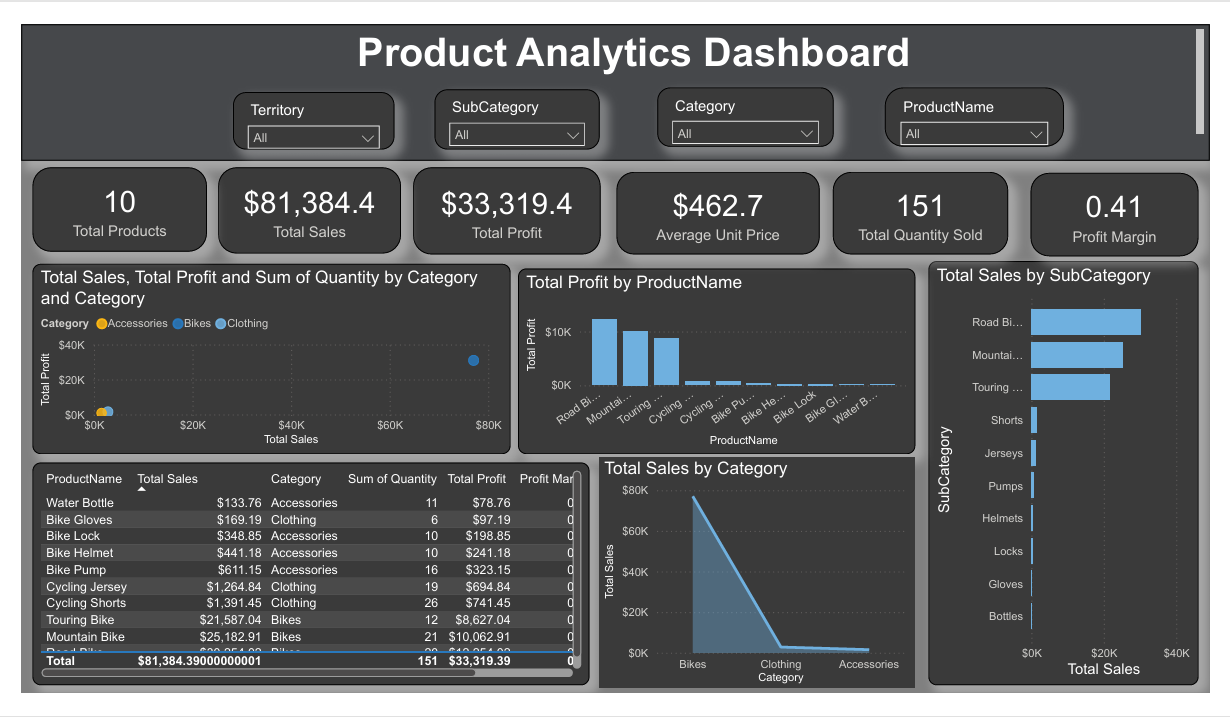

The dashboard page shown, as its layout file describes it:
{"tool":"powerbi","page":{"name":"Page 5","canvas":[1280,720],"ordinal":3},"visuals":[{"type":"textbox","box":[0,0,1280,146.7],"z":0},{"type":"card","fields":{"Values":["Sales Data.Total Profit"]},"box":[422.5,154.4,201.4,93.9],"z":1000},{"type":"slicer","fields":{"Values":["Sales Data.Territory"]},"box":[228.3,73.3,173.3,61.7],"z":2000},{"type":"slicer","fields":{"Values":["Sales Data.SubCategory"]},"box":[445,70,178.3,65],"z":3000},{"type":"slicer","fields":{"Values":["Sales Data.Category"]},"box":[685,68.3,190,63.3],"z":4000},{"type":"card","fields":{"Values":["Sales Data.Total Sales"]},"box":[212,154.4,196.8,92.4],"z":5000},{"type":"clusteredBarChart","fields":{"Y":["Sales Data.Total Sales"],"Category":["Sales Data.SubCategory"]},"box":[976.7,255,291.7,456.7],"z":6000},{"type":"scatterChart","fields":{"Category":["Sales Data.Category"],"X":["Sales Data.Total Sales"],"Y":["Sales Data.Total Profit"],"Series":["Sales Data.Category"],"Size":["Sum(Sales Data.Quantity)"]},"box":[11.7,258.3,515,205],"z":7000},{"type":"columnChart","fields":{"Category":["Sales Data.ProductName"],"Y":["Sales Data.Total Profit"]},"box":[535,263.3,428.3,200],"z":8000},{"type":"slicer","fields":{"Values":["Sales Data.ProductName"]},"box":[930,68.3,193.3,63.3],"z":9000},{"type":"card","fields":{"Values":["Sales Data.Total Products"]},"box":[12.1,154.4,187.8,90.9],"z":10000},{"type":"card","fields":{"Values":["Sales Data.Average Unit Price"]},"box":[640.5,159,219.6,89.3],"z":11000},{"type":"tableEx","fields":{"Values":["Sales Data.ProductName","Sales Data.Total Sales","Sales Data.Category","Sum(Sales Data.Quantity)","Sales Data.Total Profit","Sales Data.Profit Margin","Sales Data.SubCategory"]},"box":[11.7,471.7,600,240],"z":12000},{"type":"card","fields":{"Values":["Sales Data.Total Quantity Sold"]},"box":[873.7,159,189.3,89.3],"z":13000},{"type":"card","fields":{"Values":["Sales Data.Profit Margin"]},"box":[1086.7,160,181.7,90],"z":14000},{"type":"stackedAreaChart","fields":{"Category":["Sales Data.Category"],"Y":["Sales Data.Total Sales"]},"box":[623.3,466.7,340,248.3],"z":15000}]}

Visuals, with their boxes on the page's 1280x720 design canvas (x1, y1, x2, y2). These are canvas units, not pixel positions in the 1230x717 screenshot, which may show the page scaled, cropped or inside an application window:
textbox: 0, 0, 1280, 147
card - Sales Data.Total Profit: 422, 154, 624, 248
slicer - Sales Data.Territory: 228, 73, 402, 135
slicer - Sales Data.SubCategory: 445, 70, 623, 135
slicer - Sales Data.Category: 685, 68, 875, 132
card - Sales Data.Total Sales: 212, 154, 409, 247
clusteredBarChart - Sales Data.Total Sales x Sales Data.SubCategory: 977, 255, 1268, 712
scatterChart - Sales Data.Category x Sales Data.Total Sales: 12, 258, 527, 463
columnChart - Sales Data.ProductName x Sales Data.Total Profit: 535, 263, 963, 463
slicer - Sales Data.ProductName: 930, 68, 1123, 132
card - Sales Data.Total Products: 12, 154, 200, 245
card - Sales Data.Average Unit Price: 640, 159, 860, 248
tableEx - Sales Data.ProductName x Sales Data.Total Sales: 12, 472, 612, 712
card - Sales Data.Total Quantity Sold: 874, 159, 1063, 248
card - Sales Data.Profit Margin: 1087, 160, 1268, 250
stackedAreaChart - Sales Data.Category x Sales Data.Total Sales: 623, 467, 963, 715
